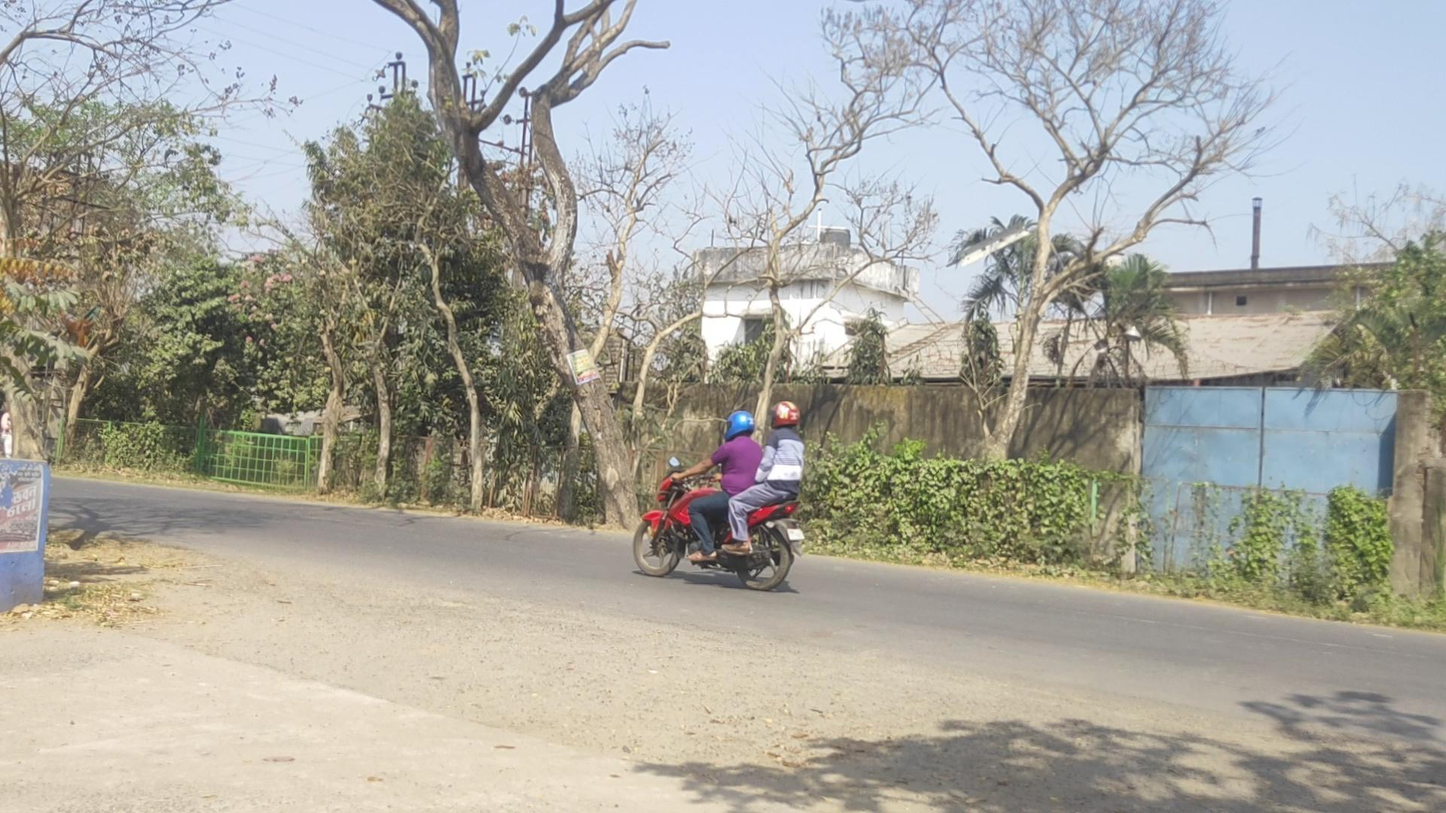bike: (633, 400, 804, 590)
